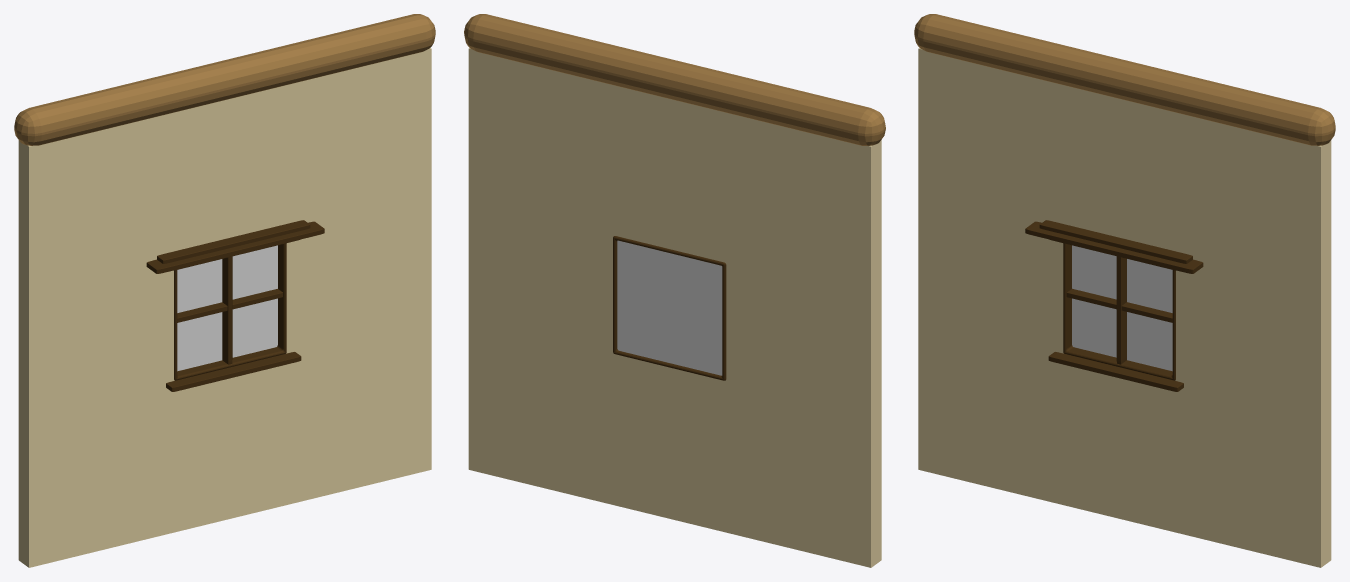
The model's file is SingleWallwithouttBrick04.fbx.
3 views of the same model, side by side, from view 1: azimuth 30°, elevation 25°; view 2: azimuth 150°, elevation 25°; view 3: azimuth 330°, elevation 25° (orthographic).
Visible parts, largest first — view 1: SingleWall-Window03.001; view 2: SingleWall-Window03.001; view 3: SingleWall-Window03.001.
Part boxes in pixels (box(x1,y1,x2,y2)): SingleWall-Window03.001: box(14, 14, 435, 567); SingleWall-Window03.001: box(464, 14, 885, 567); SingleWall-Window03.001: box(914, 14, 1335, 567).
Size of the model in its own units: 207 by 215 by 21.97.
